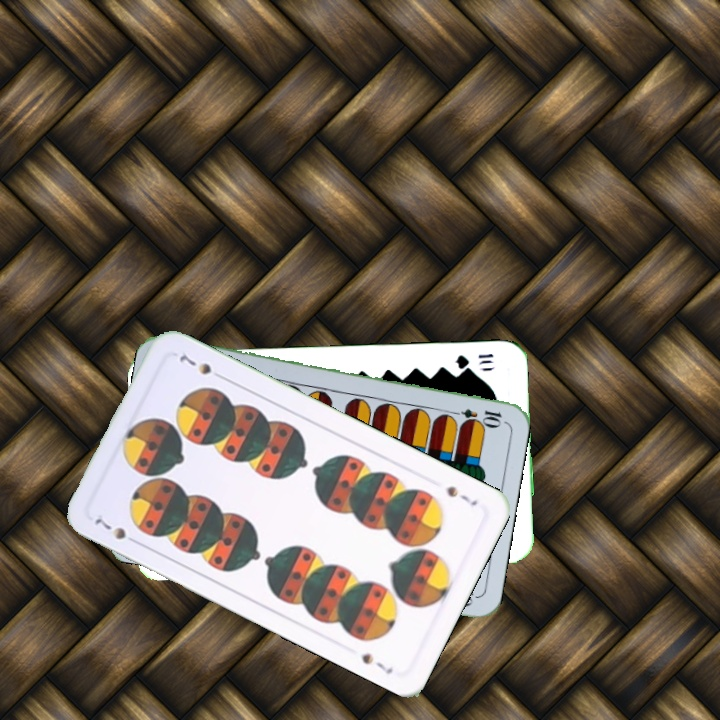E10: (445, 404, 504, 427)
G10: (452, 349, 496, 371)
S7: (90, 514, 143, 548), (442, 481, 480, 509)
